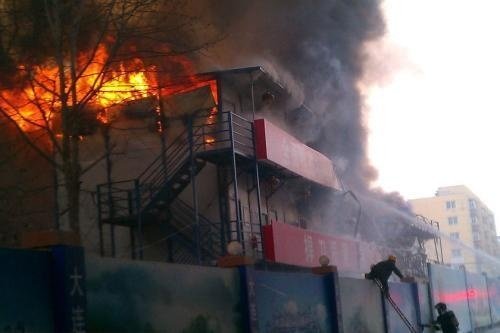fire: (2, 40, 157, 130)
